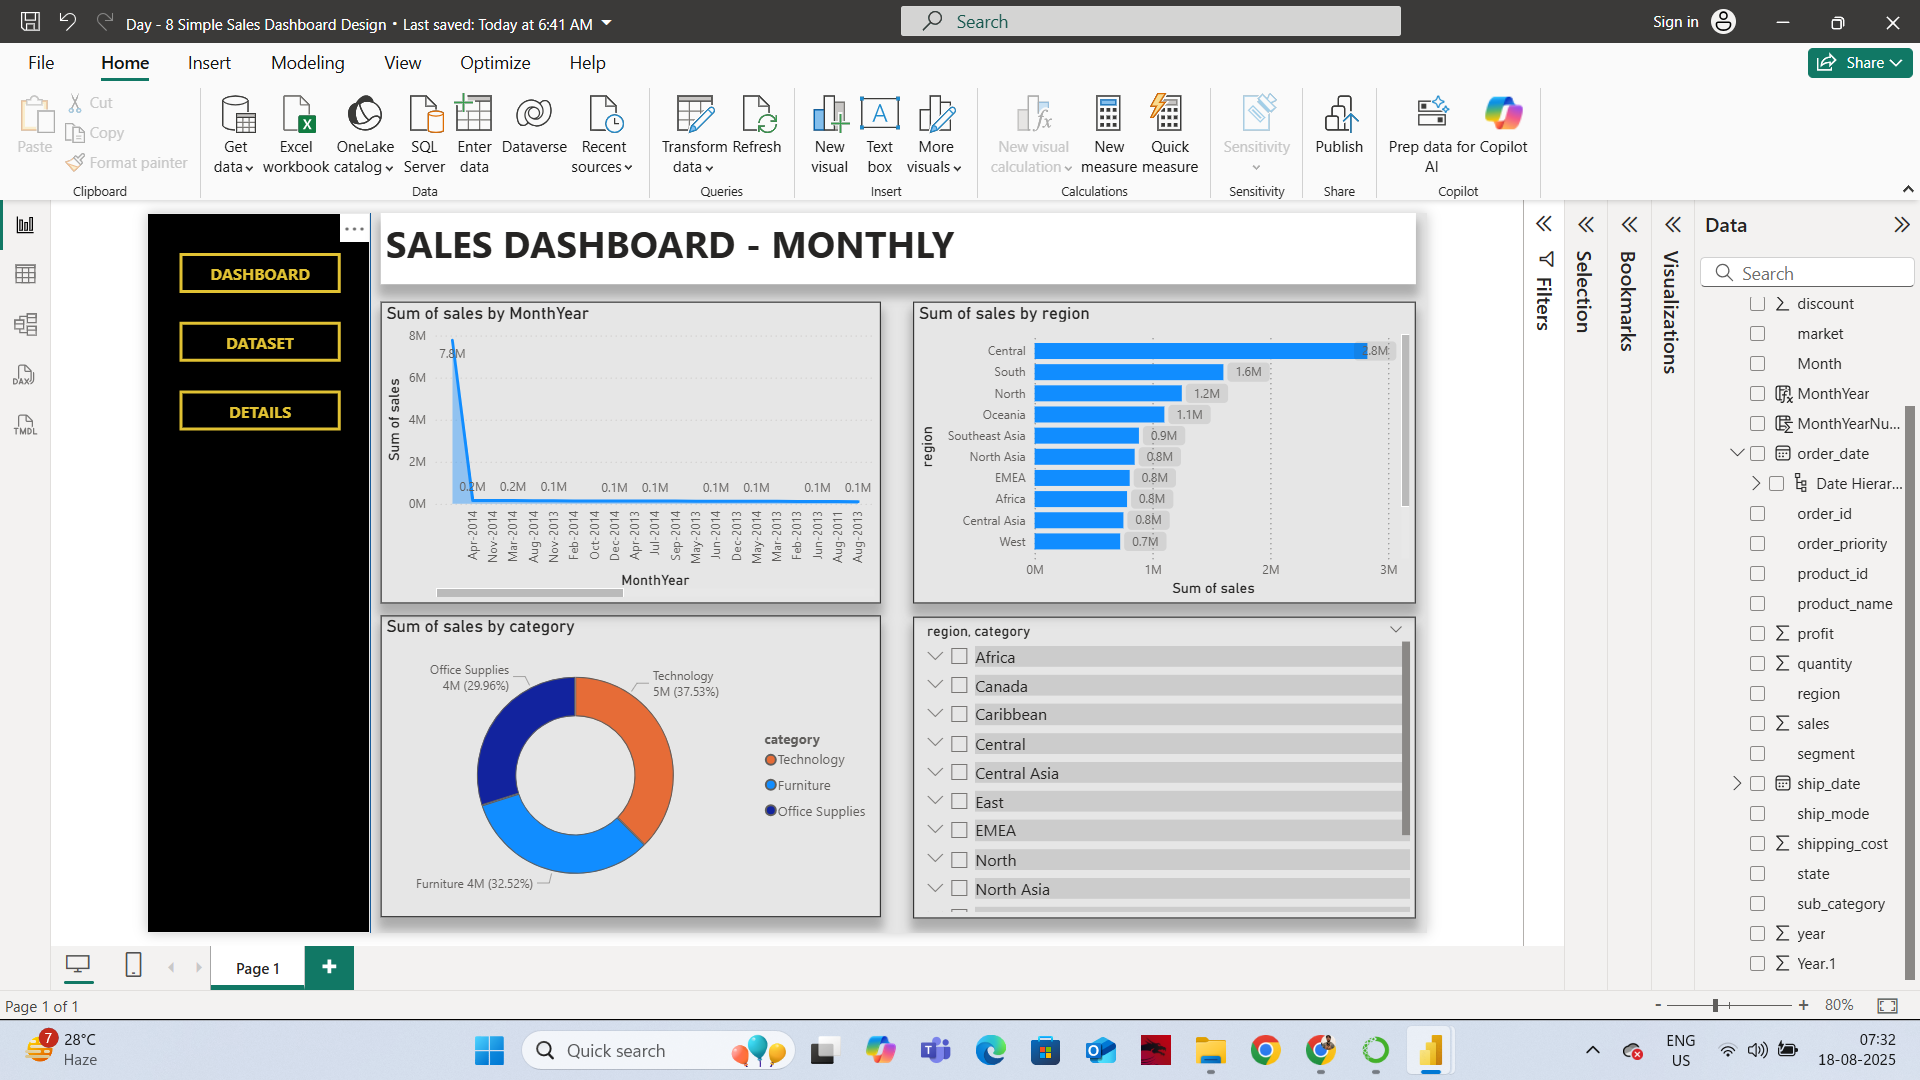

What the dashboard file says about the page in this screenshot:
{"tool":"powerbi","page":{"name":"Page 1","canvas":[1280,720],"ordinal":0},"visuals":[{"type":"shape","box":[0,0,223.8,720],"z":0},{"type":"actionButton","box":[32.5,40,161.2,40],"z":1000},{"type":"actionButton","box":[32.5,108.8,161.2,40],"z":2000},{"type":"textbox","box":[233.8,0,1035,71.2],"z":3000},{"type":"actionButton","box":[32.5,177.5,161.2,40],"z":4000},{"type":"textbox","box":[233.8,413.8,506.2,298.8],"z":7000},{"type":"textbox","box":[233.8,92.5,506.2,298.8],"z":8000},{"type":"textbox","box":[750,413.8,518.8,298.8],"z":9000},{"type":"textbox","box":[752.5,92.5,516.2,298.8],"z":10000}]}

Visuals, with their boxes on the page's 1280x720 design canvas (x1, y1, x2, y2). These are canvas units, not pixel positions in the 1920x1080 screenshot, which may show the page scaled, cropped or inside an application window:
shape: pyautogui.locateOnScreen(0, 0, 224, 720)
actionButton: pyautogui.locateOnScreen(32, 40, 194, 80)
actionButton: pyautogui.locateOnScreen(32, 109, 194, 149)
textbox: pyautogui.locateOnScreen(234, 0, 1269, 71)
actionButton: pyautogui.locateOnScreen(32, 178, 194, 218)
textbox: pyautogui.locateOnScreen(234, 414, 740, 713)
textbox: pyautogui.locateOnScreen(234, 92, 740, 391)
textbox: pyautogui.locateOnScreen(750, 414, 1269, 713)
textbox: pyautogui.locateOnScreen(752, 92, 1269, 391)
